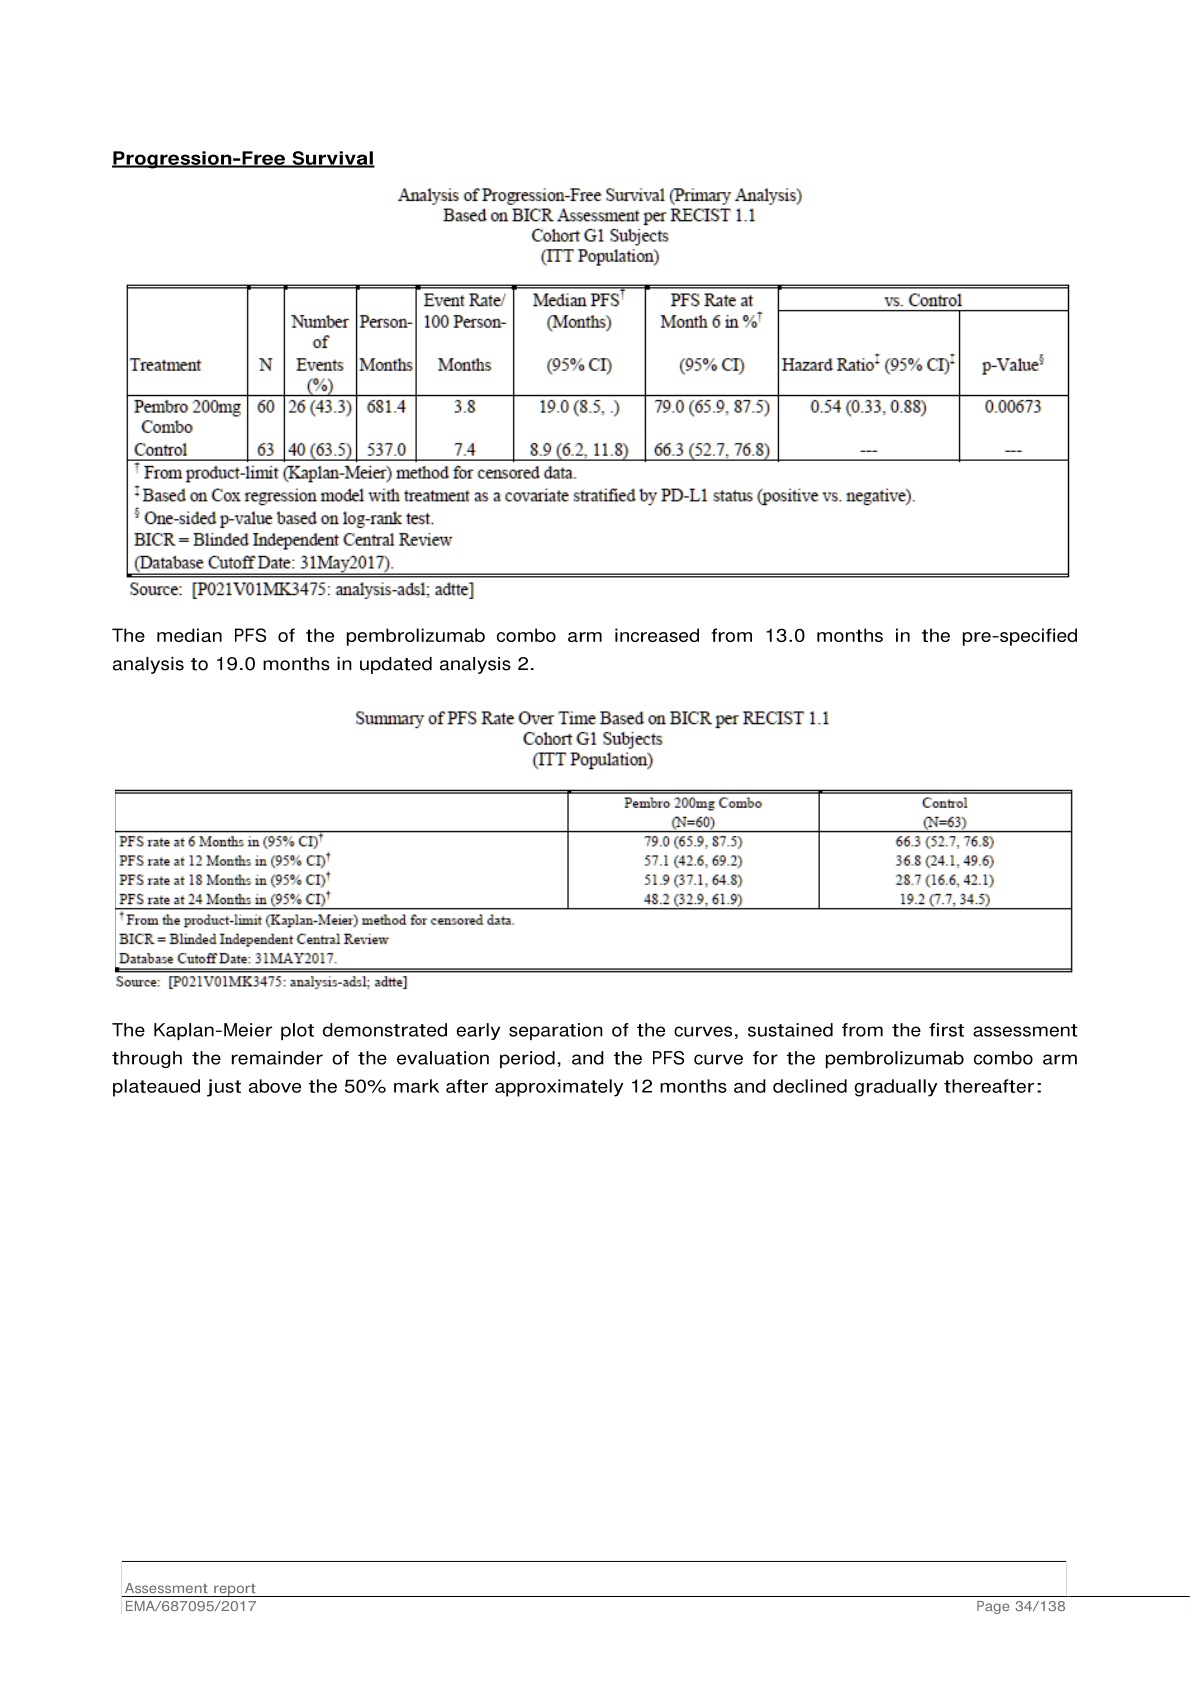merged_cells: (126, 285, 1070, 578), (115, 788, 1073, 972)
